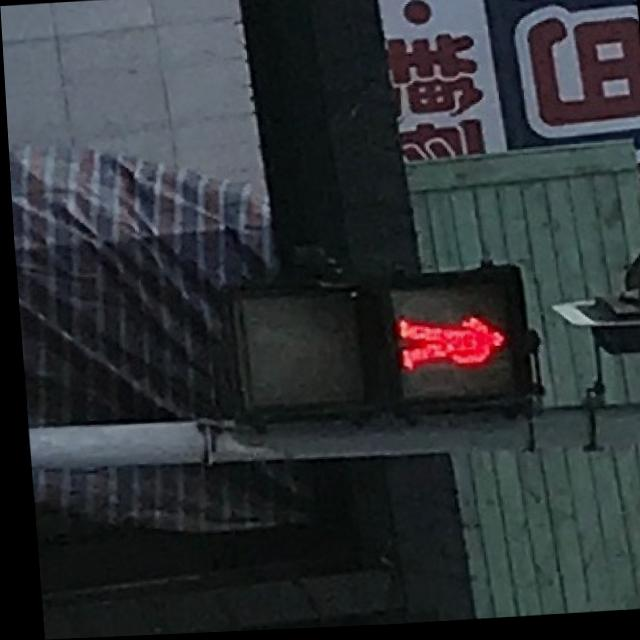red_light: (385, 287, 520, 411)
